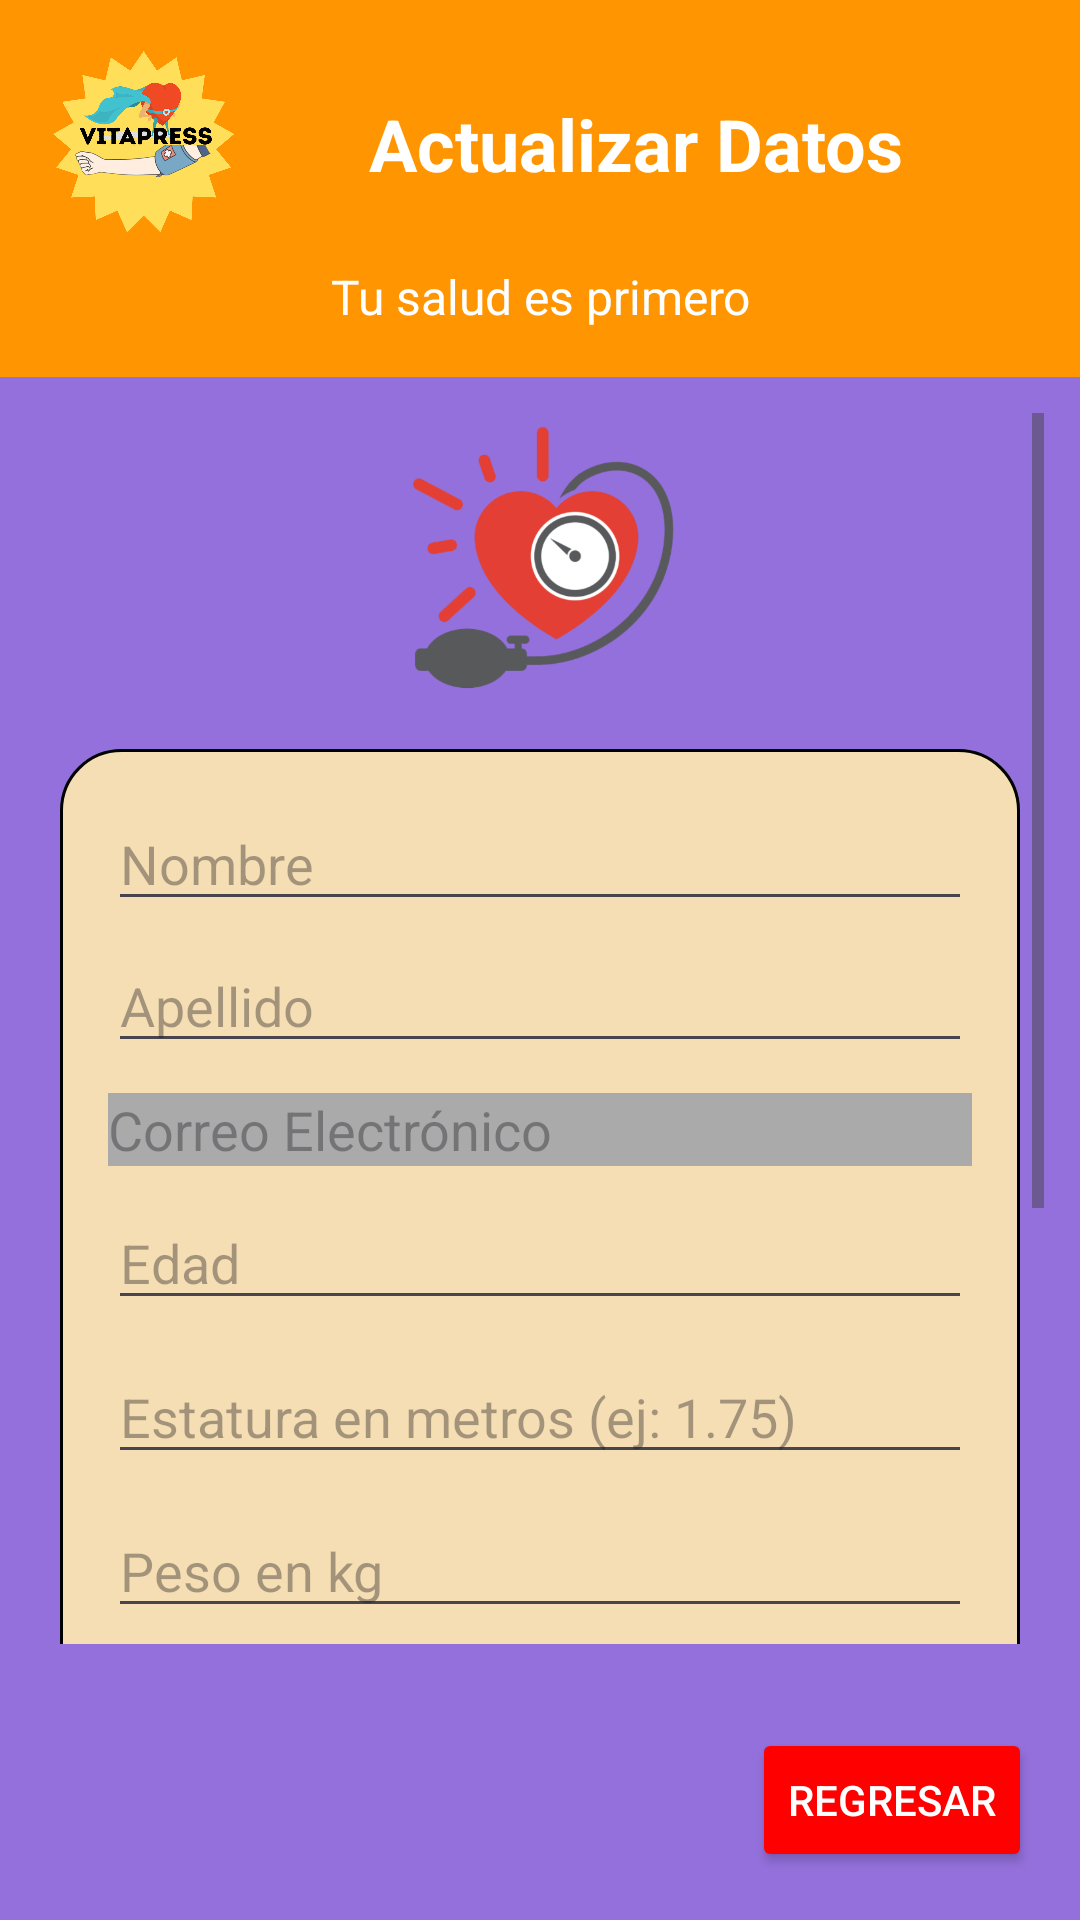

Screen size 1080px x 1920px. Icon name, then its center in pixels as point (x, y):
Corazón VitalPress: point (543, 557)
